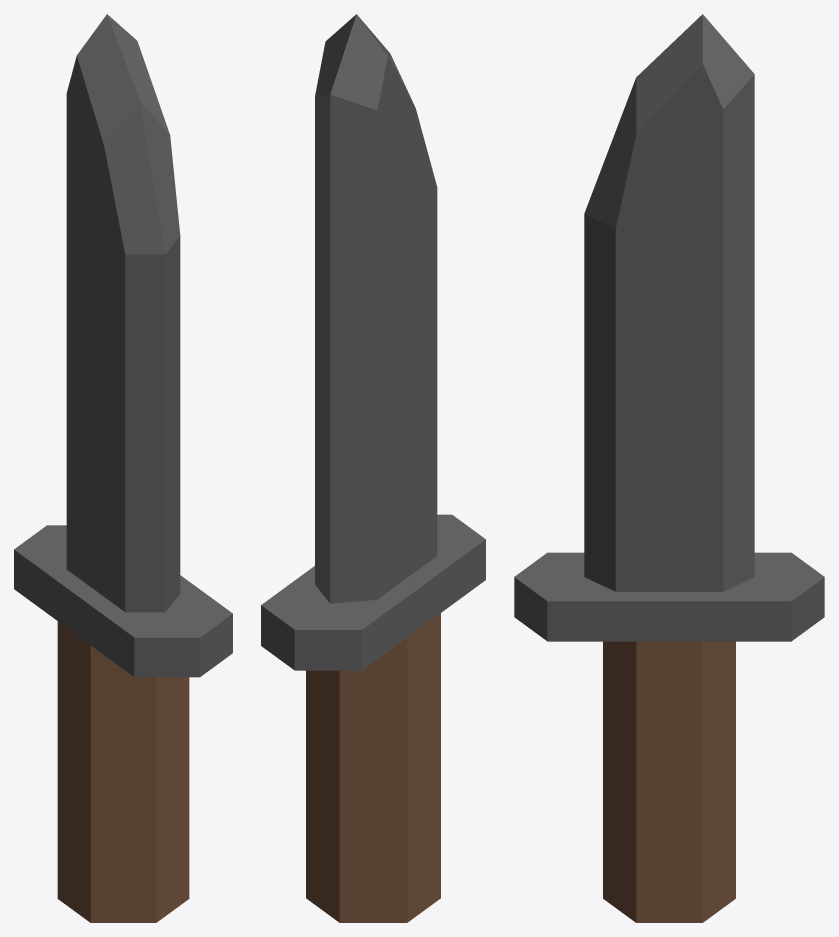
File: CombatKnife.fbx
3 views of the same model, side by side, from view 1: azimuth 30°, elevation 25°; view 2: azimuth 150°, elevation 25°; view 3: azimuth 270°, elevation 25° (orthographic). The views are drawn at different scales.
Parts seen in each view (by area): view 1: CombatKnife; view 2: CombatKnife; view 3: CombatKnife.
Boxes of the visible parts, <box> form: CombatKnife: <box>14,14,232,922</box>; CombatKnife: <box>261,14,485,922</box>; CombatKnife: <box>514,14,824,922</box>.
Bounding box in the file's own units: 0.0866 × 0.7333 × 0.2333.
